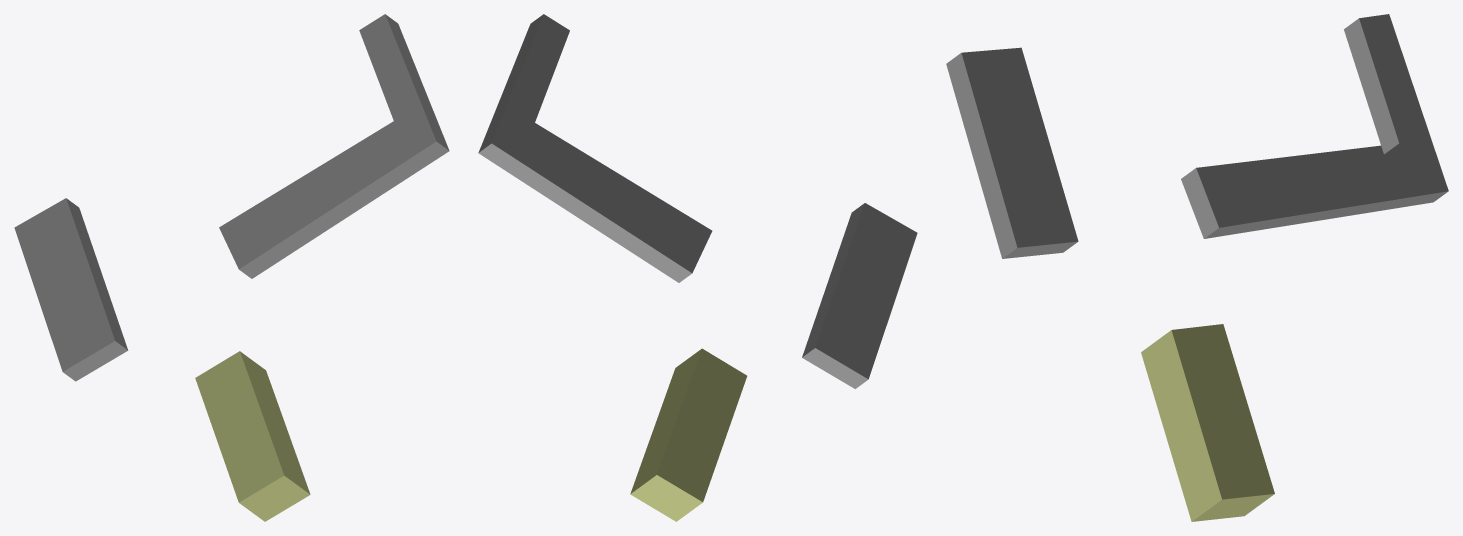
3 renders of one model, left to right at view 1: azimuth 30°, elevation 25°; view 2: azimuth 150°, elevation 25°; view 3: azimuth 330°, elevation 25°, orthographic. The views are drawn at different scales.
Visible parts, largest first — view 1: 0_1_0_2_0_2_2_1_0; view 2: 0_1_0_2_0_2_2_1_0; view 3: 0_1_0_2_0_2_2_1_0.
Boxes of the visible parts, x1,y1,x2,y2 form: 0_1_0_2_0_2_2_1_0: (14,14,449,521); 0_1_0_2_0_2_2_1_0: (478,14,917,521); 0_1_0_2_0_2_2_1_0: (946,14,1448,521).
Size of the model in its own units: 55.41 by 57.16 by 6.
